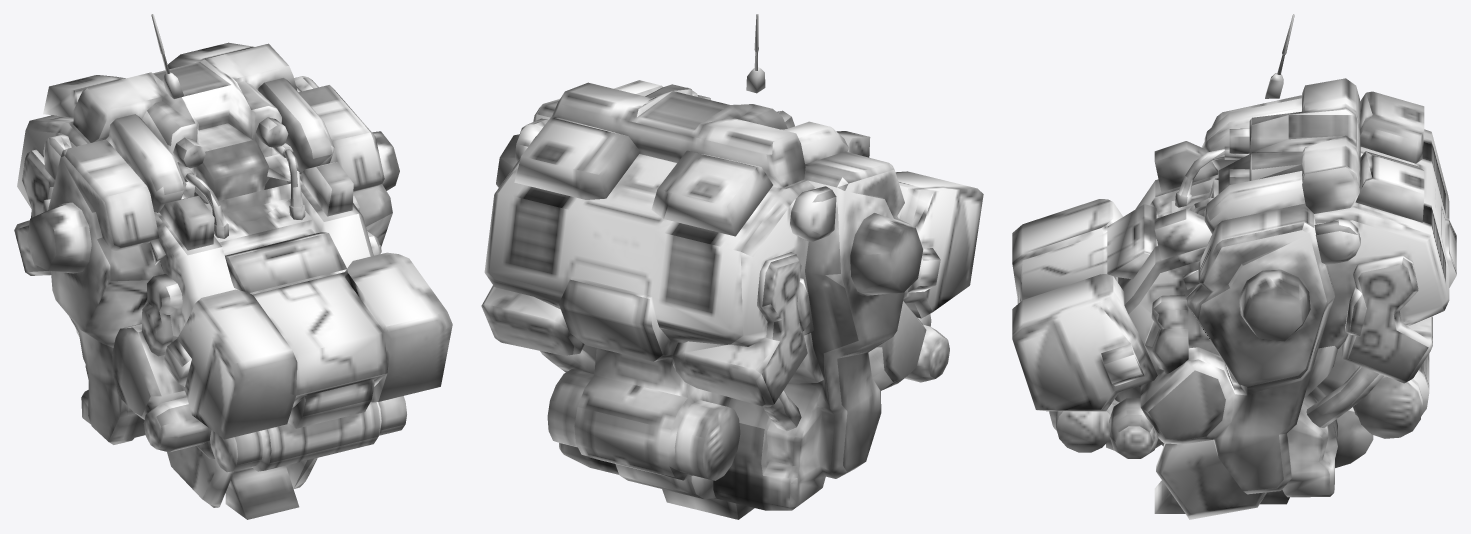
Rendered from c_std.glb.
The picture shows the model from 3 angles, left to right: view 1: azimuth 30°, elevation 25°; view 2: azimuth 150°, elevation 25°; view 3: azimuth 270°, elevation 25°; orthographic projection. The views are drawn at different scales.
Parts seen in each view (by area): view 1: c_std; view 2: c_std; view 3: c_std.
Boxes of the visible parts, x1,y1,x2,y2 form: c_std: [14, 14, 452, 519]; c_std: [481, 14, 983, 519]; c_std: [1012, 14, 1456, 519].
Bounding box in the file's own units: 1.12 × 1.41 × 1.23.
4 materials, 4 textured.
